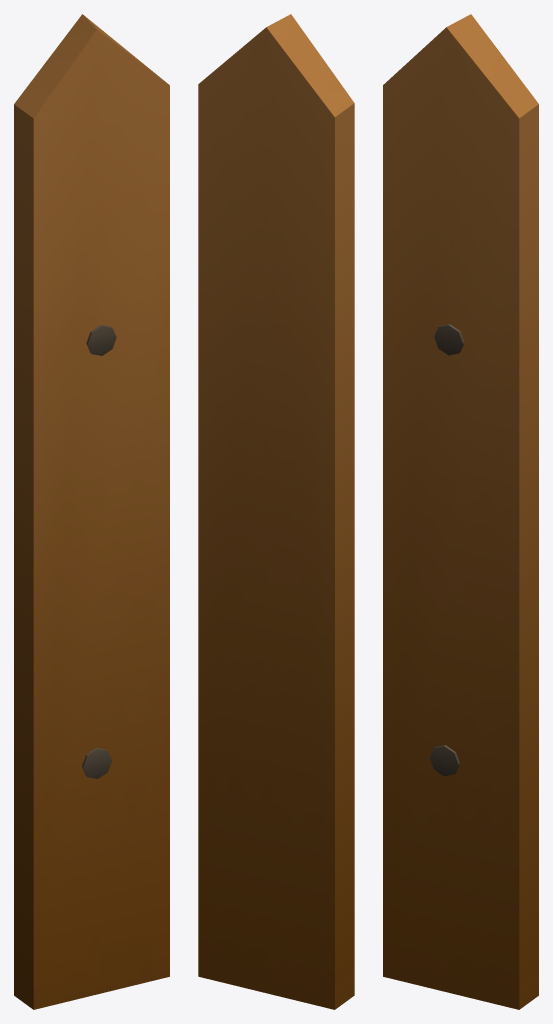
The model's file is Fence_Bit_D.fbx.
3 renders of one model, left to right at view 1: azimuth 30°, elevation 25°; view 2: azimuth 150°, elevation 25°; view 3: azimuth 330°, elevation 25°, orthographic.
Visible parts, largest first — view 1: Fence_Bit_D; view 2: Fence_Bit_D; view 3: Fence_Bit_D.
Part boxes in pixels (x1,y1,x2,y2): Fence_Bit_D: (14,14,169,1009); Fence_Bit_D: (198,14,354,1009); Fence_Bit_D: (383,14,538,1009).
Size of the model in its own units: 16 by 4.3 by 108.
Materials: 1 (1 with a texture image).
